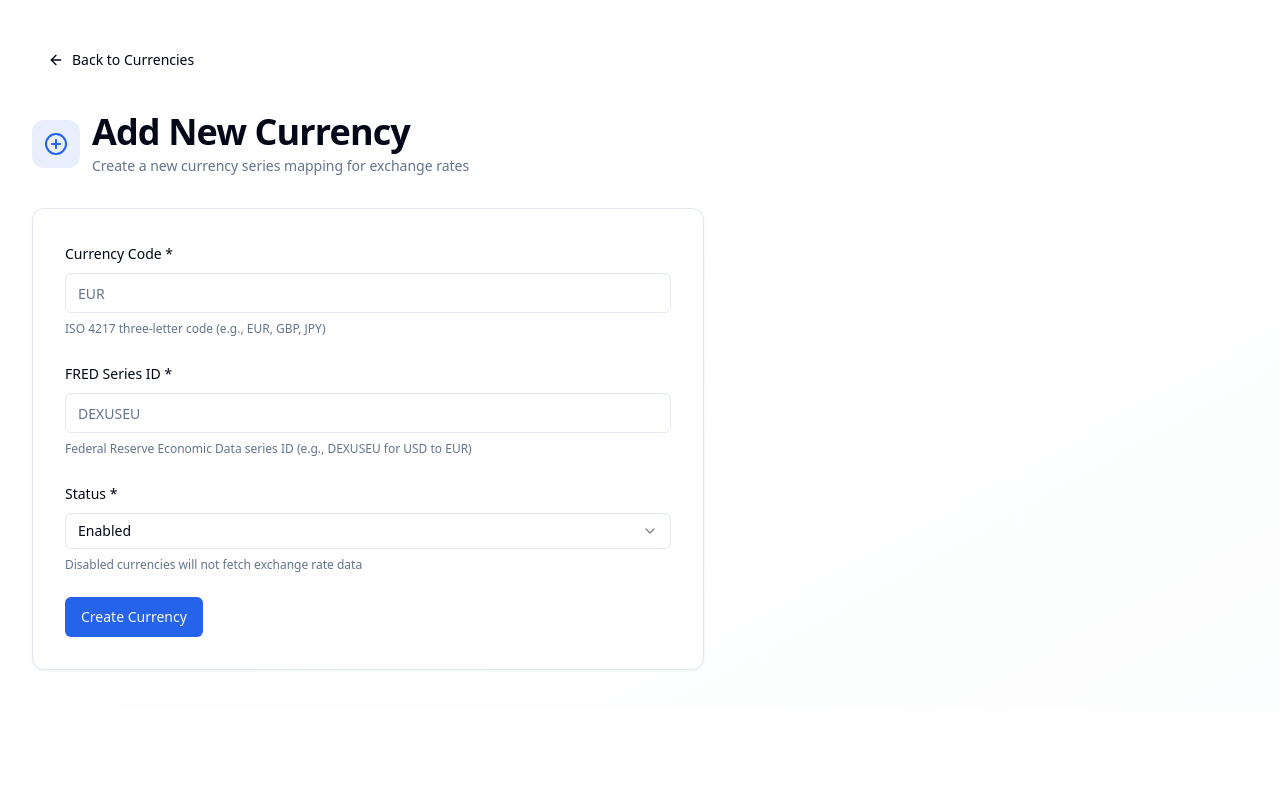
CurrencyCreatePage › creates a currency with the submitted payload and navigates with success feedback
The image size is (1280, 800).
Type "cad" into the field labelled "Currency Code *".
click(368, 293); type("cad")  # box [65, 273, 671, 313]
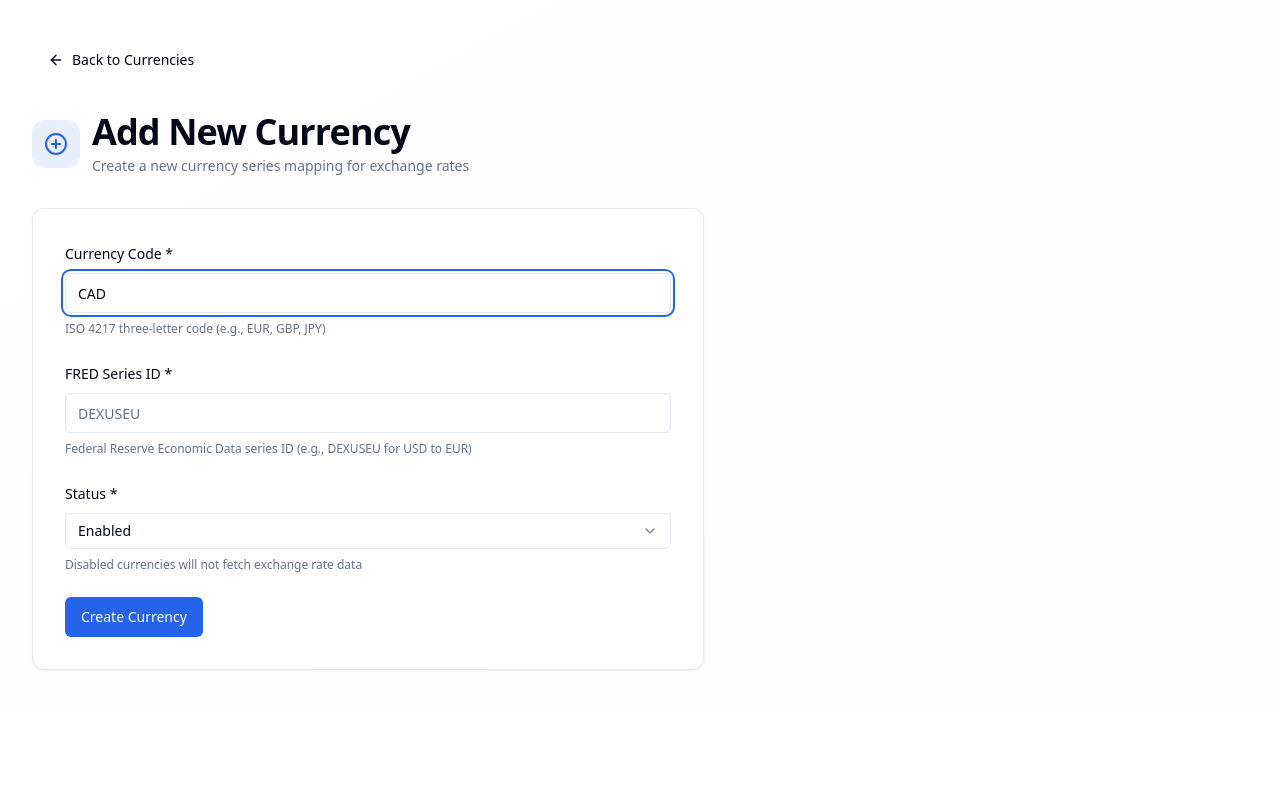
Type "dexcaus" into the field labelled "FRED Series ID *".
click(368, 413); type("dexcaus")  # box [65, 393, 671, 433]
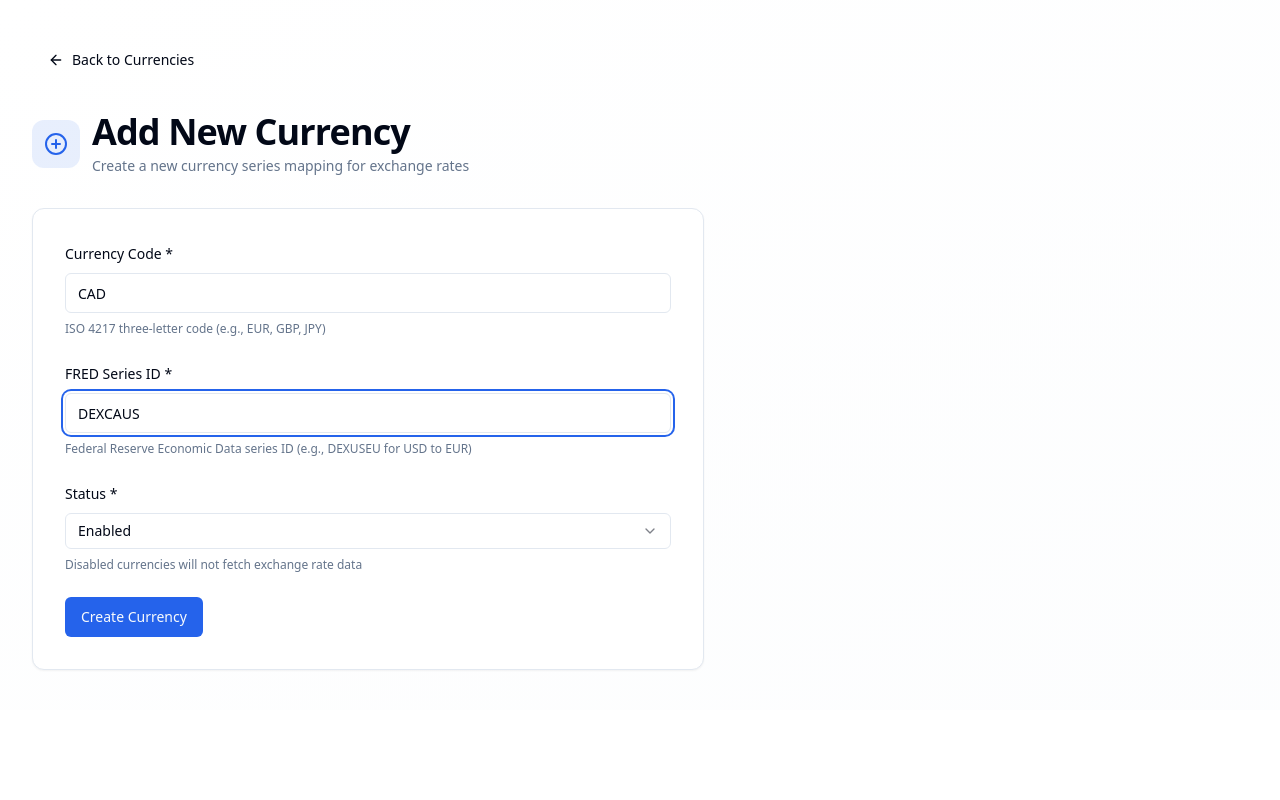
Click the button "Create Currency".
click(134, 617)  # box [65, 597, 203, 637]
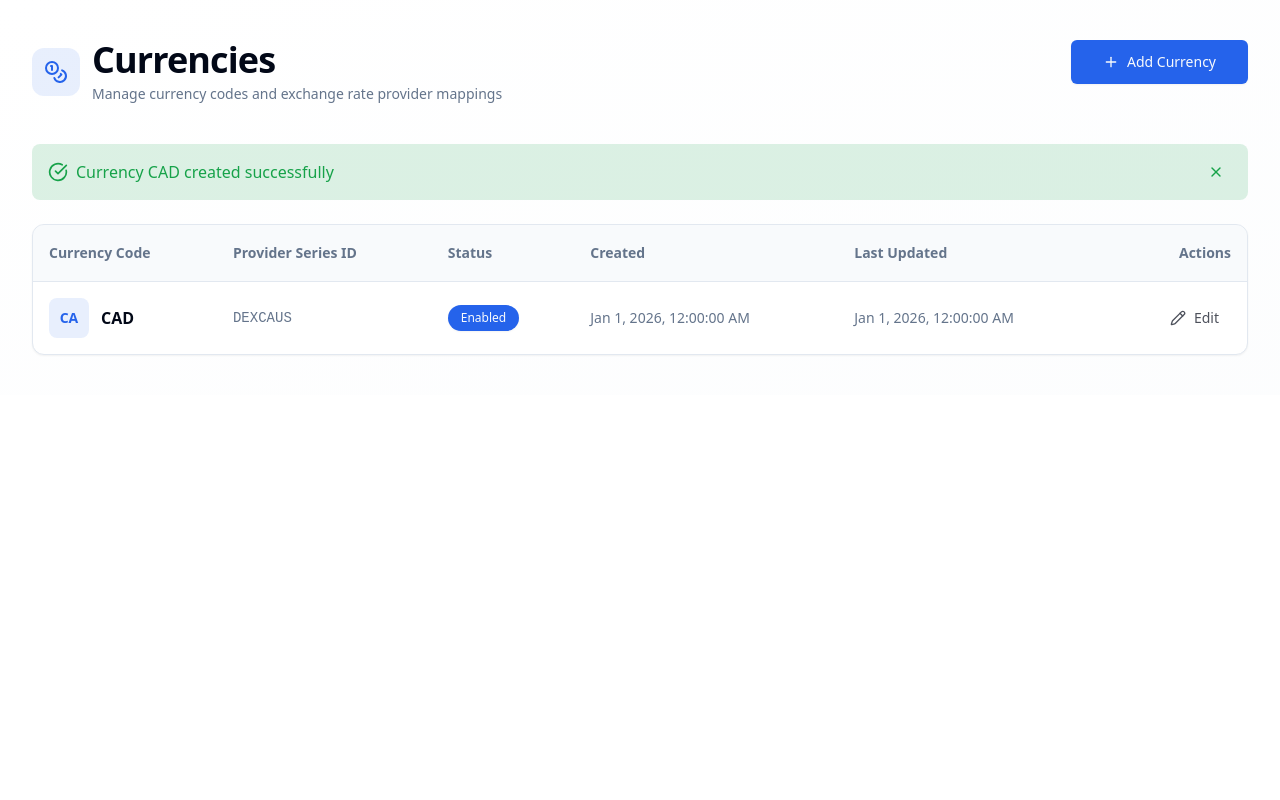
Result: the text "Currency CAD created successfully" is shown at [76, 160, 334, 184]
Result: the heading "Currencies" is shown at [92, 35, 275, 84]
